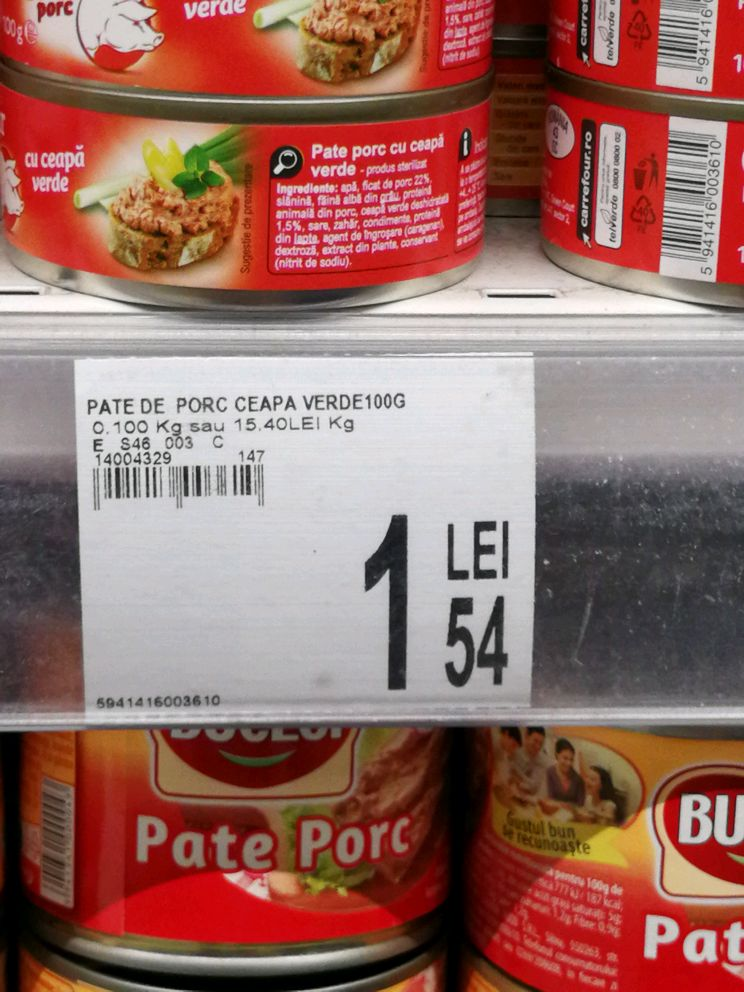price_bani: (436, 590, 516, 699)
price_lei: (351, 505, 426, 699)
price_tag: (67, 343, 547, 724)
product_id: (91, 688, 225, 716)
product_name: (72, 384, 415, 423)
